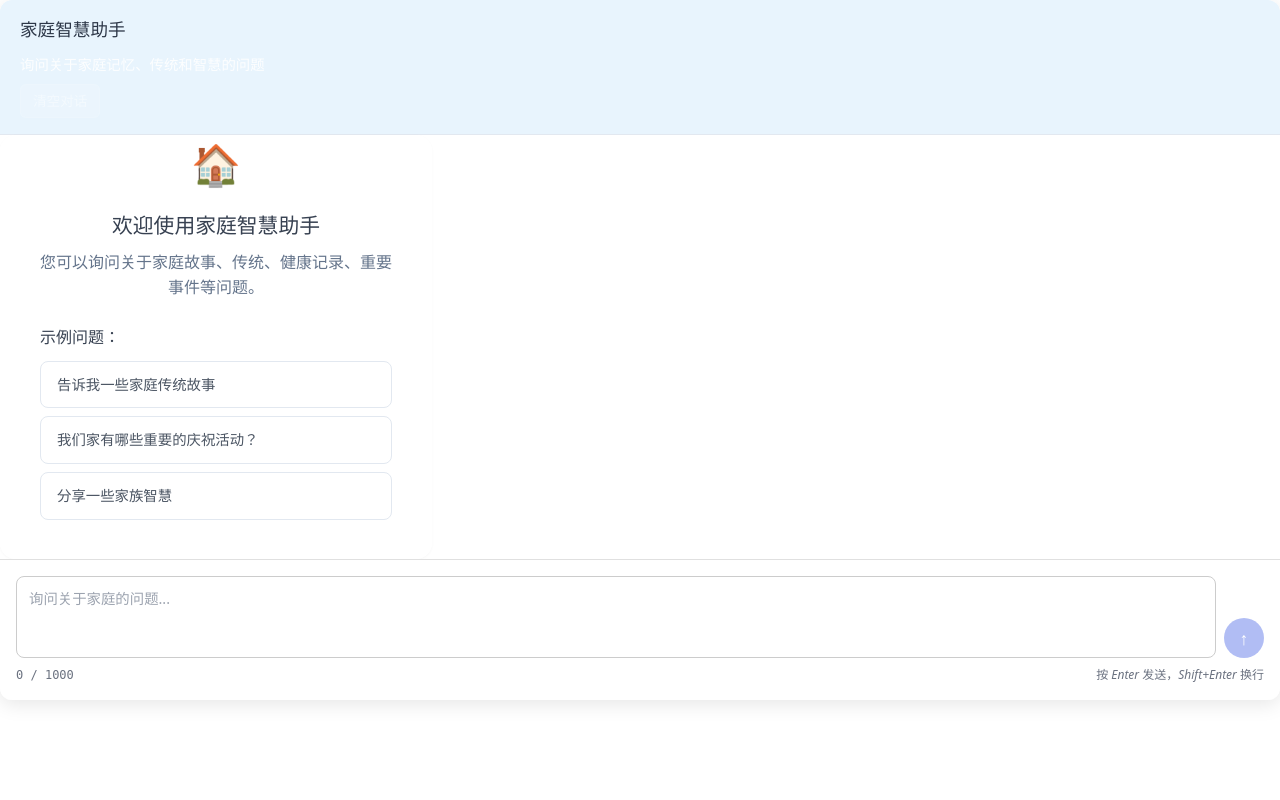
ChatInterface › sends manual input messages
This screenshot has width=1280, height=800.
(page scrolled)
Type "自定义问题" into the text box with placeholder "询问关于家庭的问题...".
click(616, 617); type("自定义问题")  # box left=16, top=576, right=1216, bottom=658
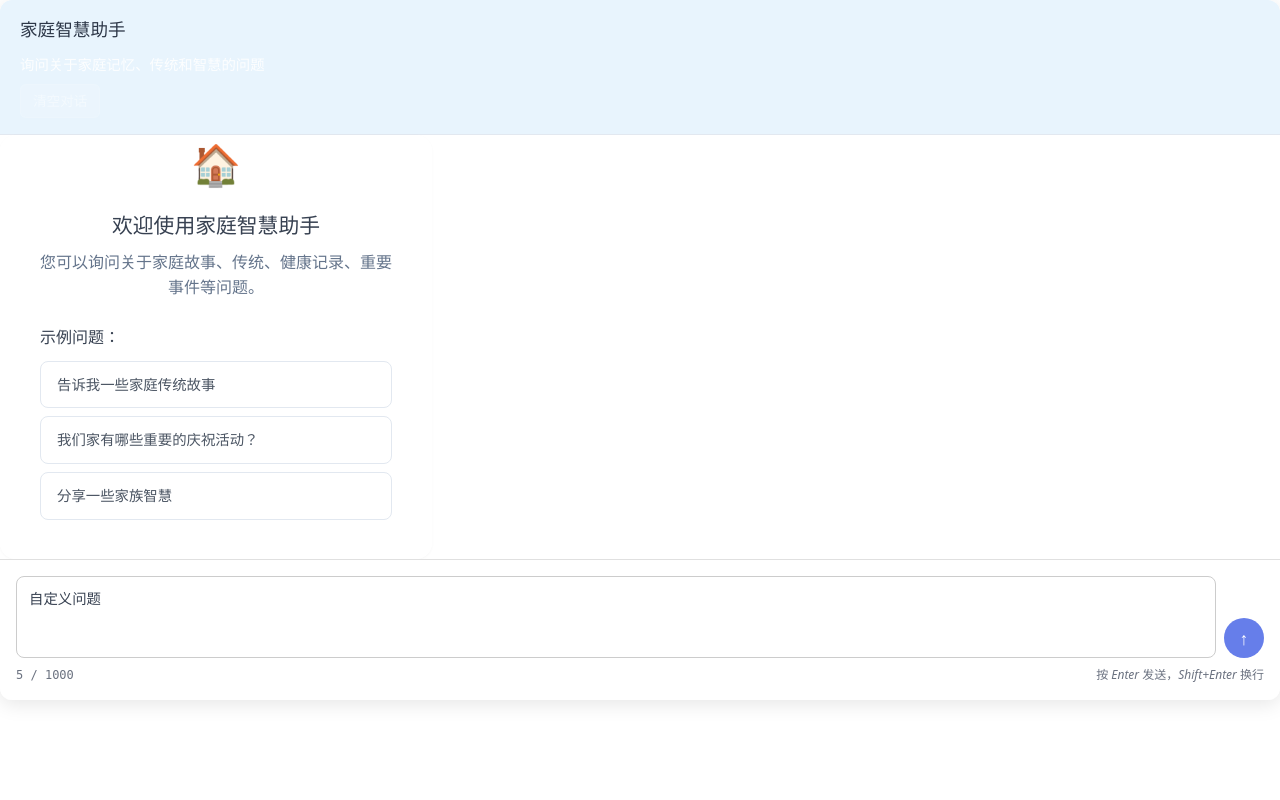
Click the button titled "发送消息 (Enter)".
click(1244, 638)  # box left=1224, top=618, right=1264, bottom=658
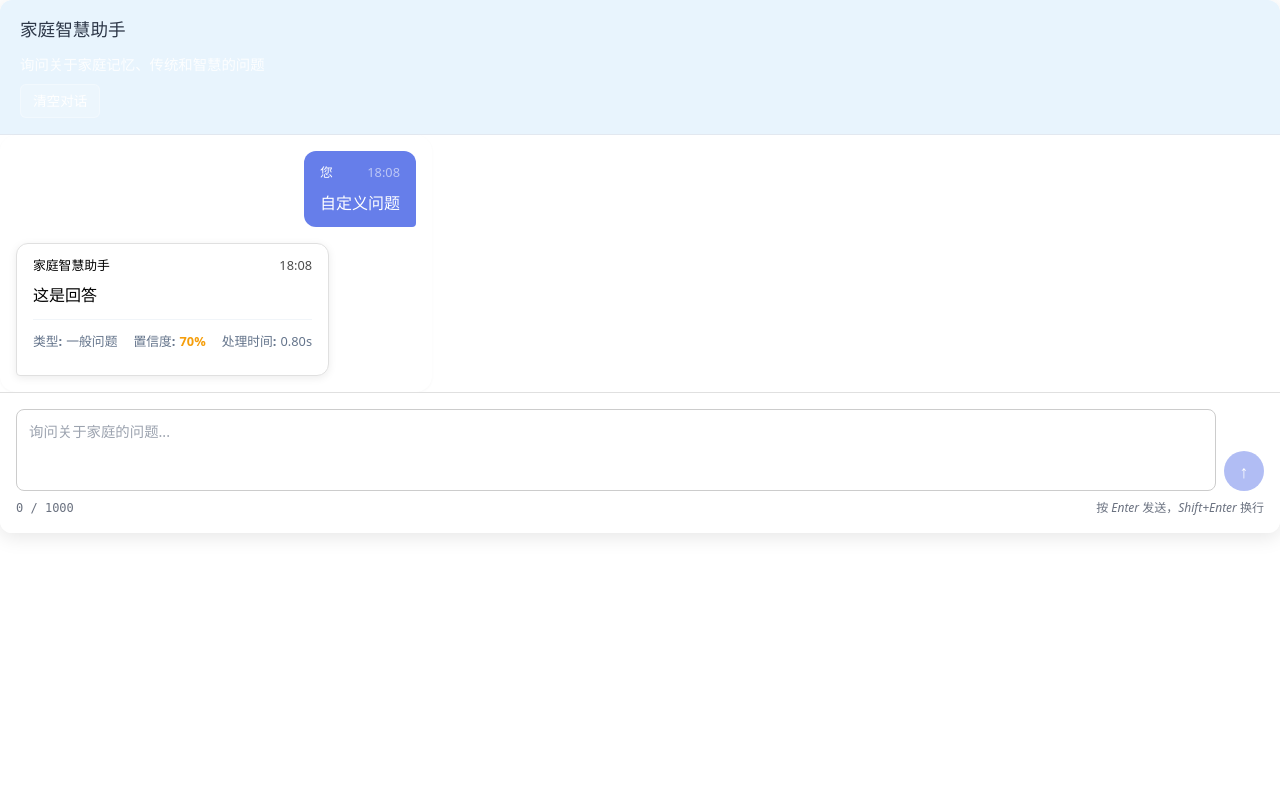
Check: the text "这是回答" is shown, box left=33, top=283, right=97, bottom=307
